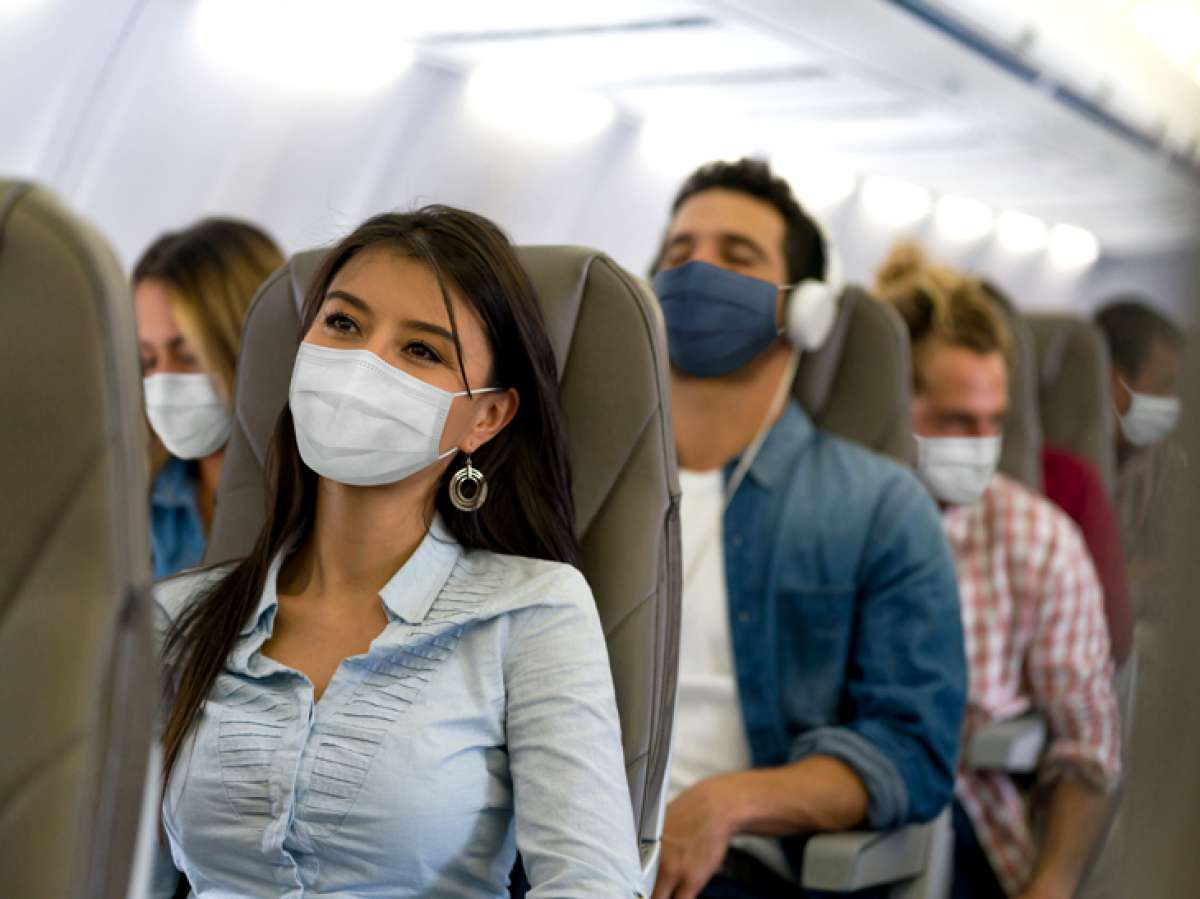with_mask: (323, 283, 449, 453), (672, 210, 774, 326), (133, 302, 222, 424), (935, 369, 1014, 475), (1123, 331, 1179, 430)
